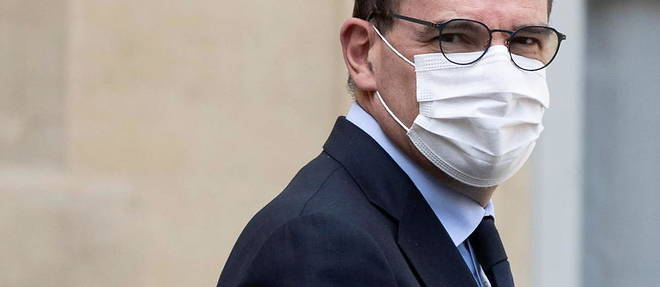with_mask: (365, 6, 565, 185)
